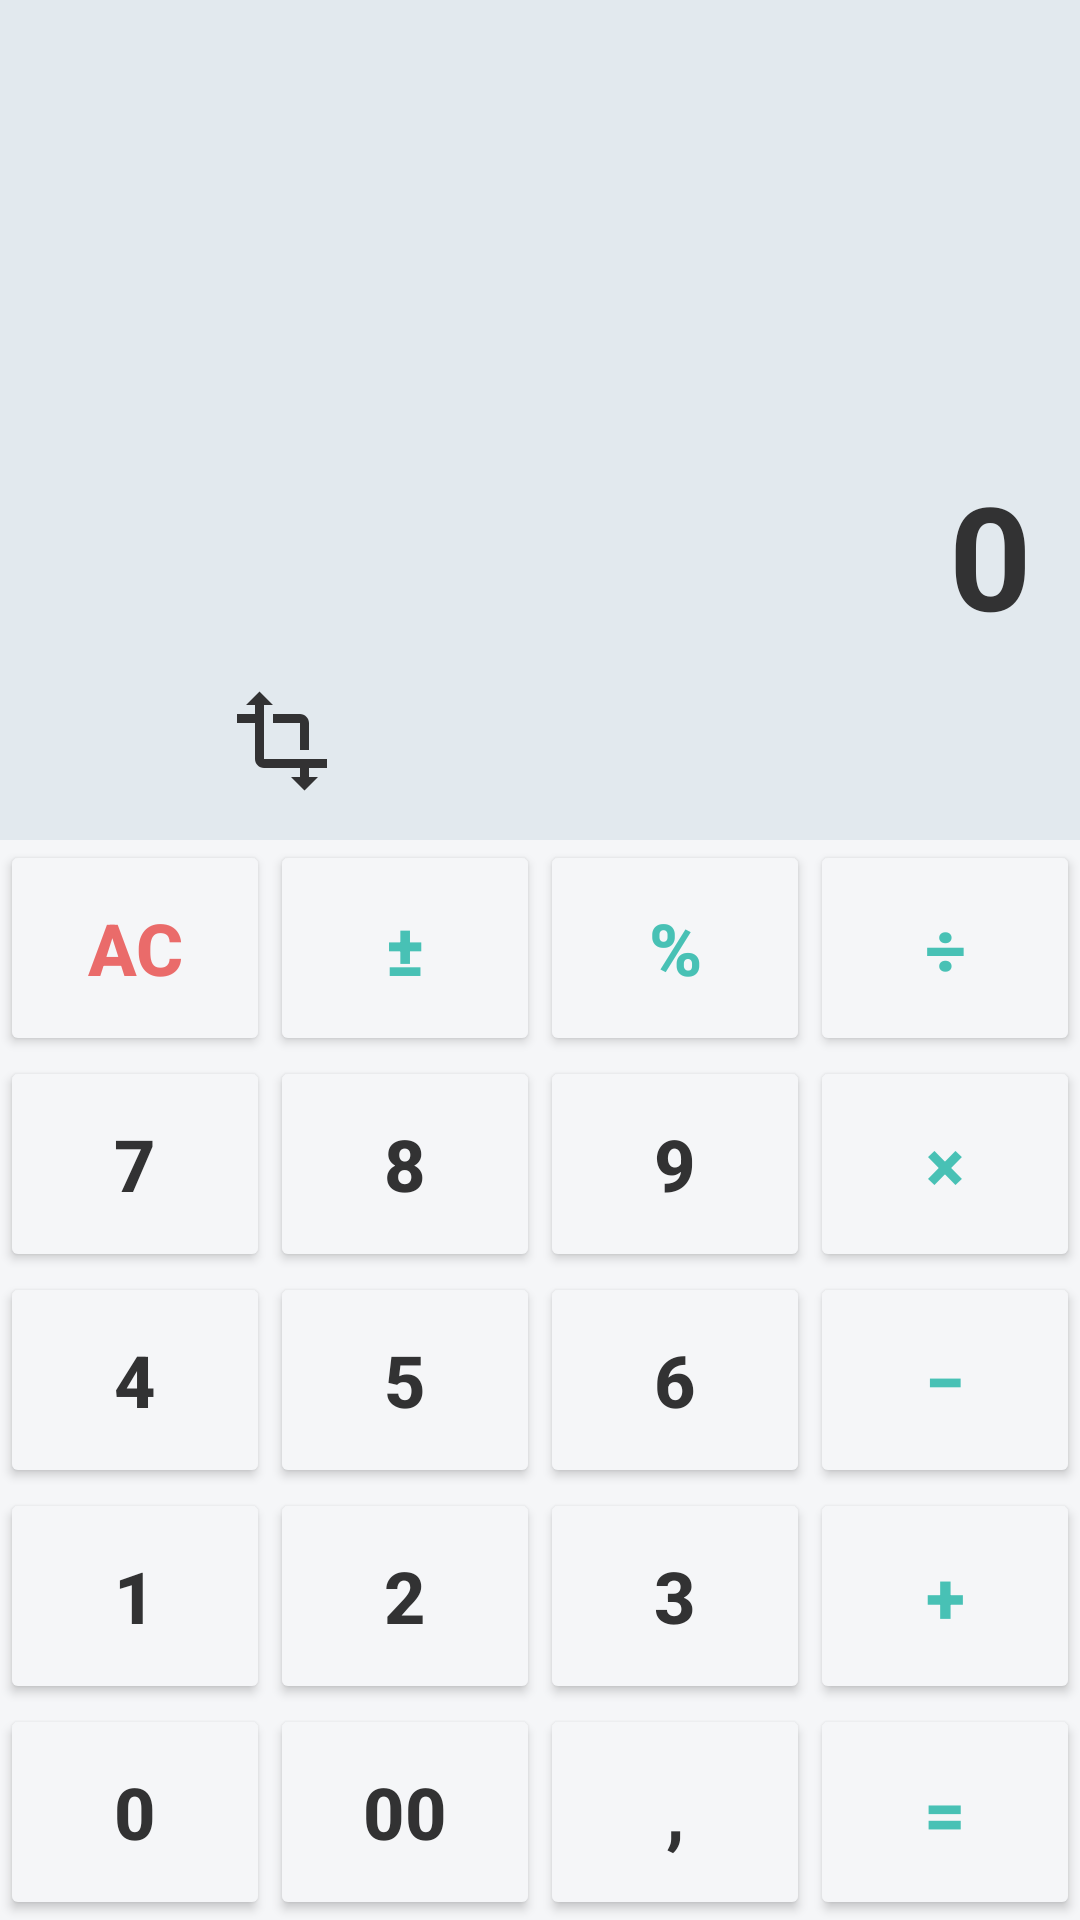

Icon bounding boxes for this 1080*1920 phone screenshot, format [left=x1, top=y1, right=x2, bottom=y2]:
transform: [left=237, top=691, right=327, bottom=791]
